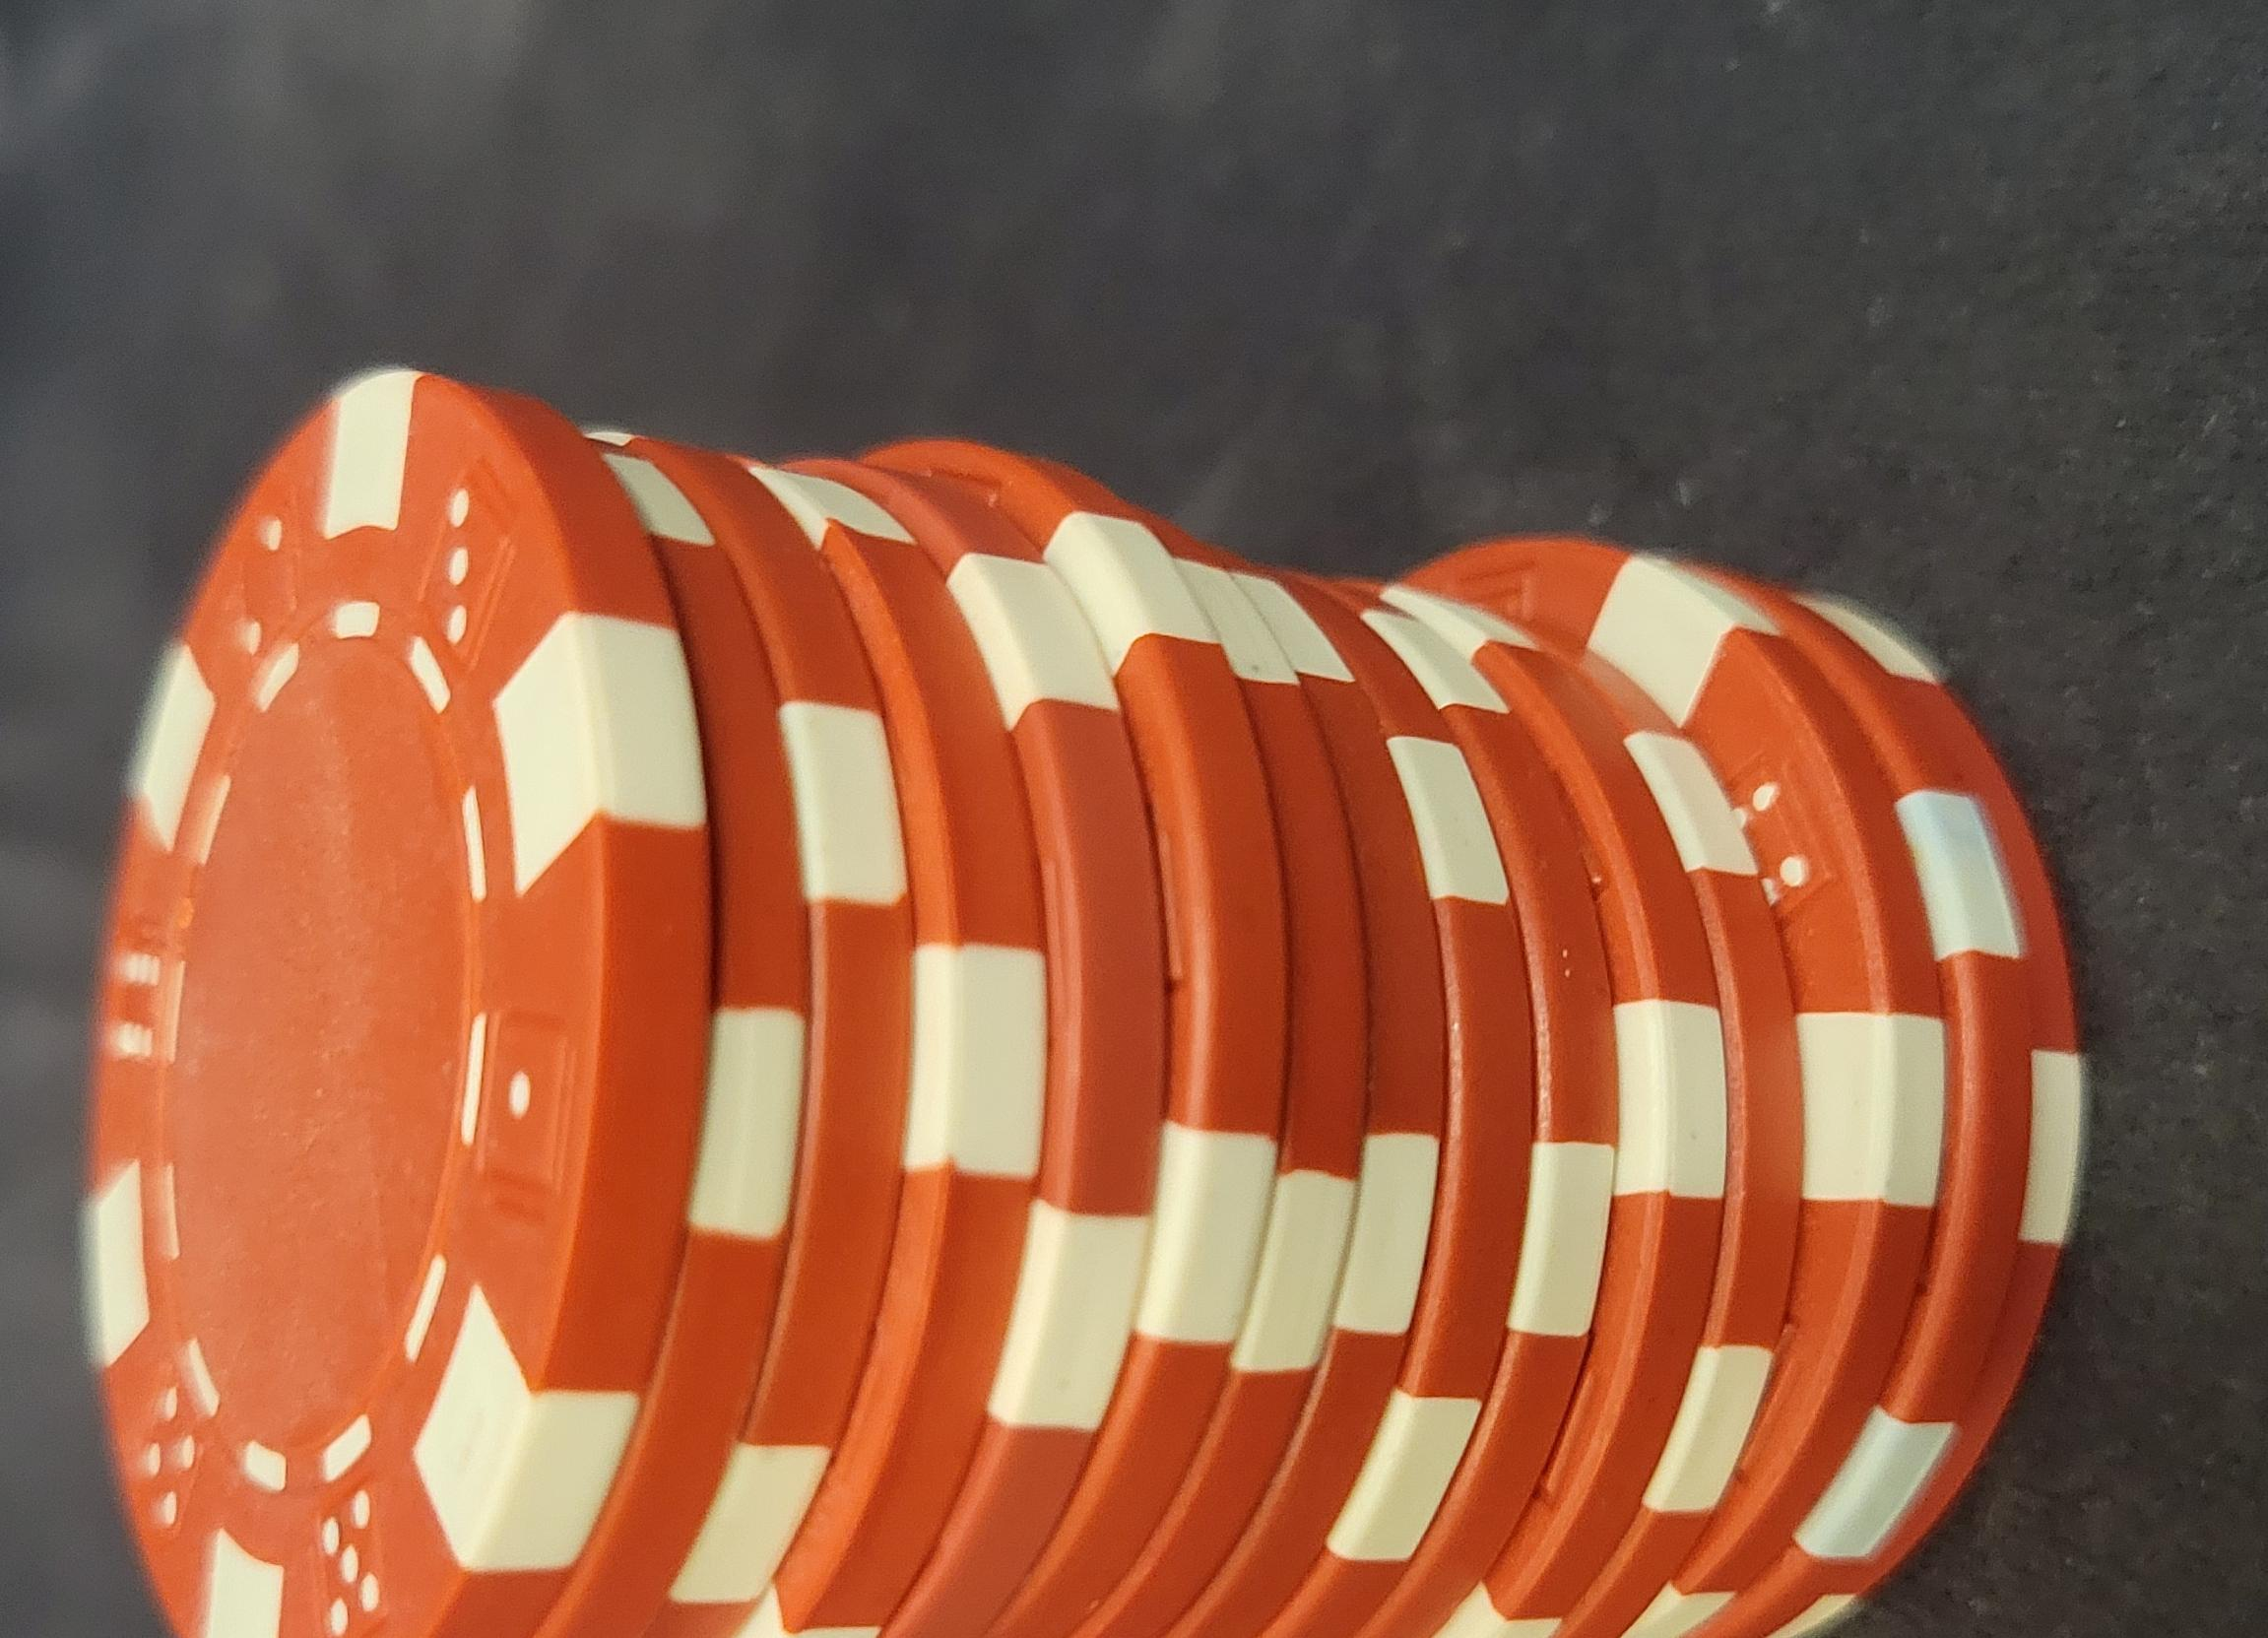Chip: (2, 155, 1520, 1638)
